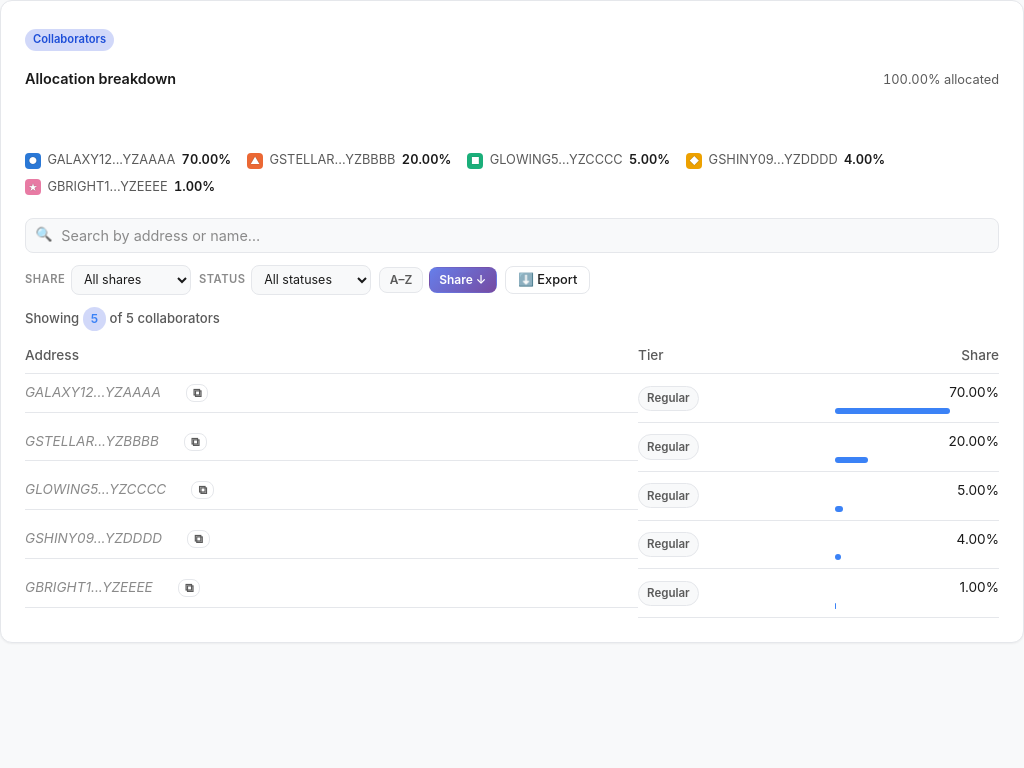
Scenario: CollaboratorTable › filters by share range > 10%
Select "> 10%" in the dropdown named "Filter by share percentage" at (131, 280), box [71,265,191,295]
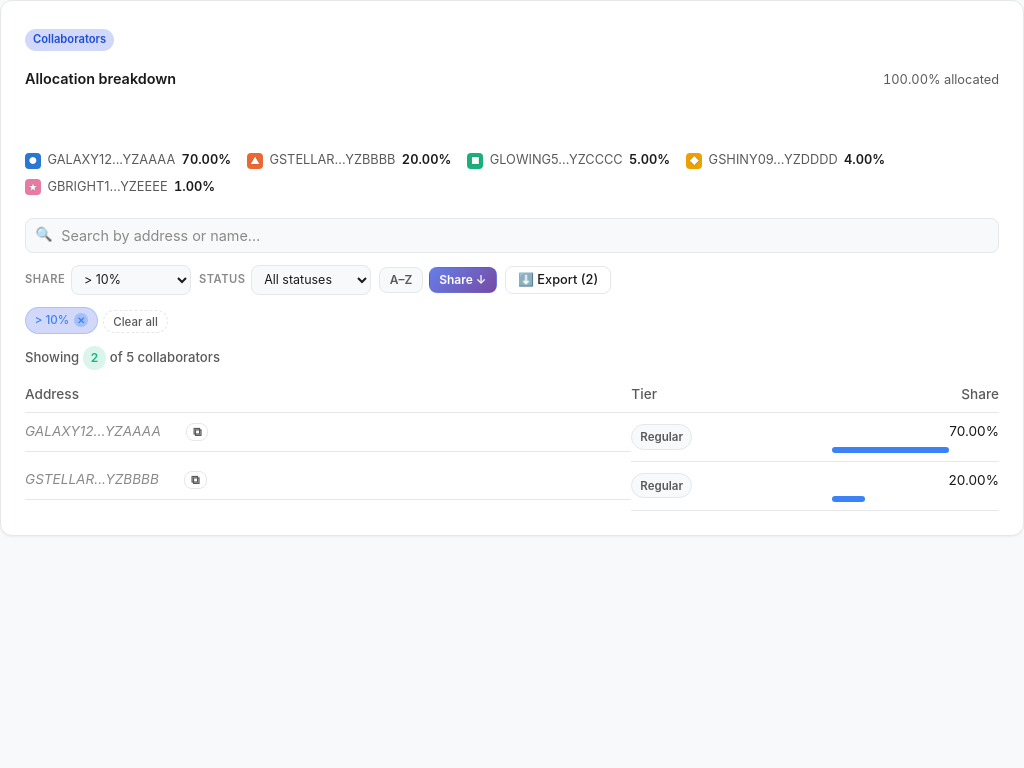
Expected: the text "70.00%" in the row of "GLOWING5...YZCCCC" is shown, [182,150,231,171]
Now the text "Showing 2 of 5 collaborators" is shown, box [25,346,220,370]
